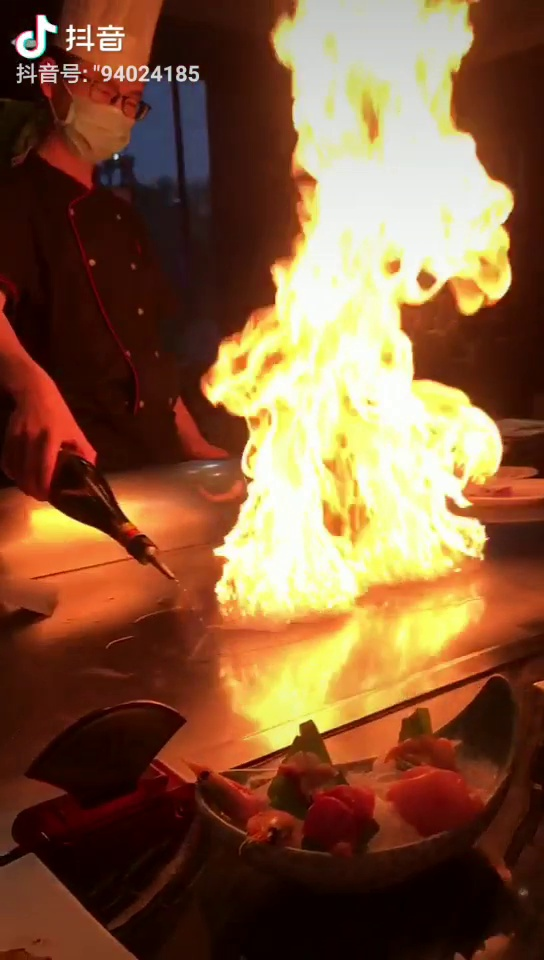fire: (202, 299, 497, 607), (253, 25, 503, 306)
